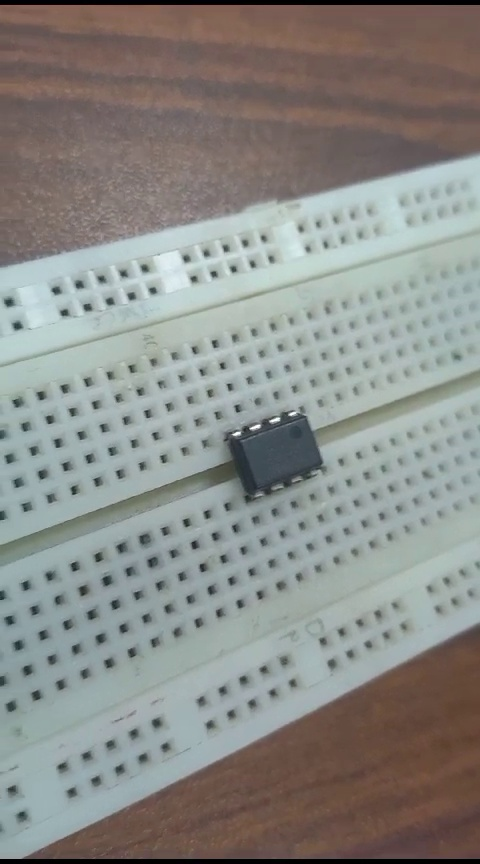IC: (218, 401, 346, 511)
